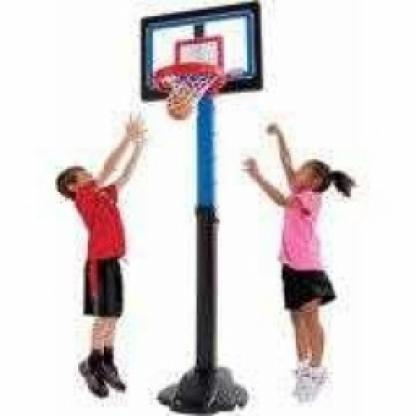basketball: (161, 90, 197, 127)
